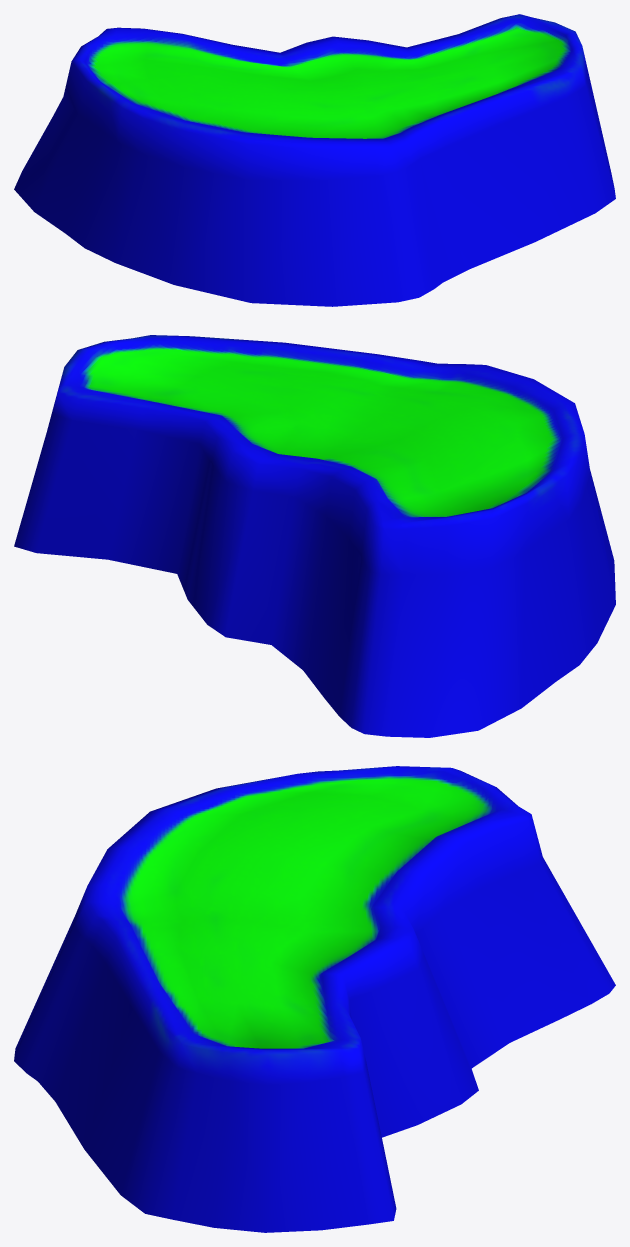
Rendered from SisterIslandShape.dae.
3 views of the same model, one above another, from view 1: azimuth 30°, elevation 25°; view 2: azimuth 150°, elevation 25°; view 3: azimuth 270°, elevation 25° (orthographic). The views are drawn at different scales.
Parts seen in each view (by area): view 1: SisterIsland; view 2: SisterIsland; view 3: SisterIsland.
Boxes of the visible parts, box(x1,y1,x2,y2) form: SisterIsland: box(14, 14, 615, 306); SisterIsland: box(14, 335, 615, 737); SisterIsland: box(14, 766, 615, 1232).
Bounding box in the file's own units: 133 × 40.01 × 114.
